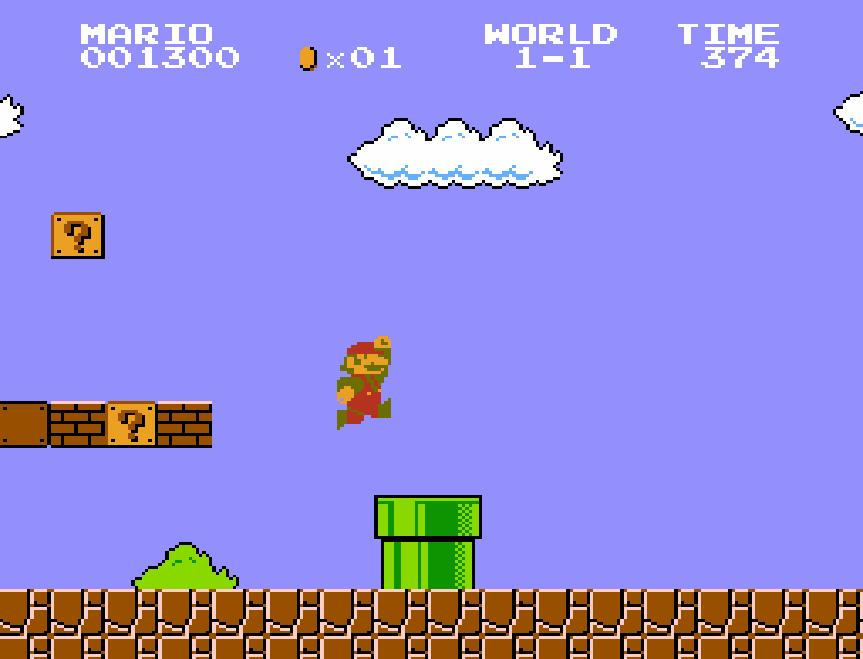big_mario: (335, 334, 393, 432)
